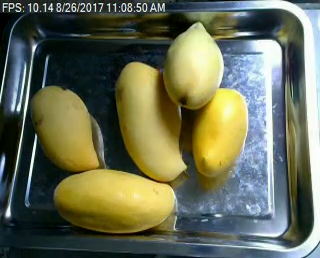Mango: (110, 60, 188, 179), (50, 169, 177, 232), (27, 80, 104, 176), (162, 20, 227, 114), (193, 86, 255, 180)
